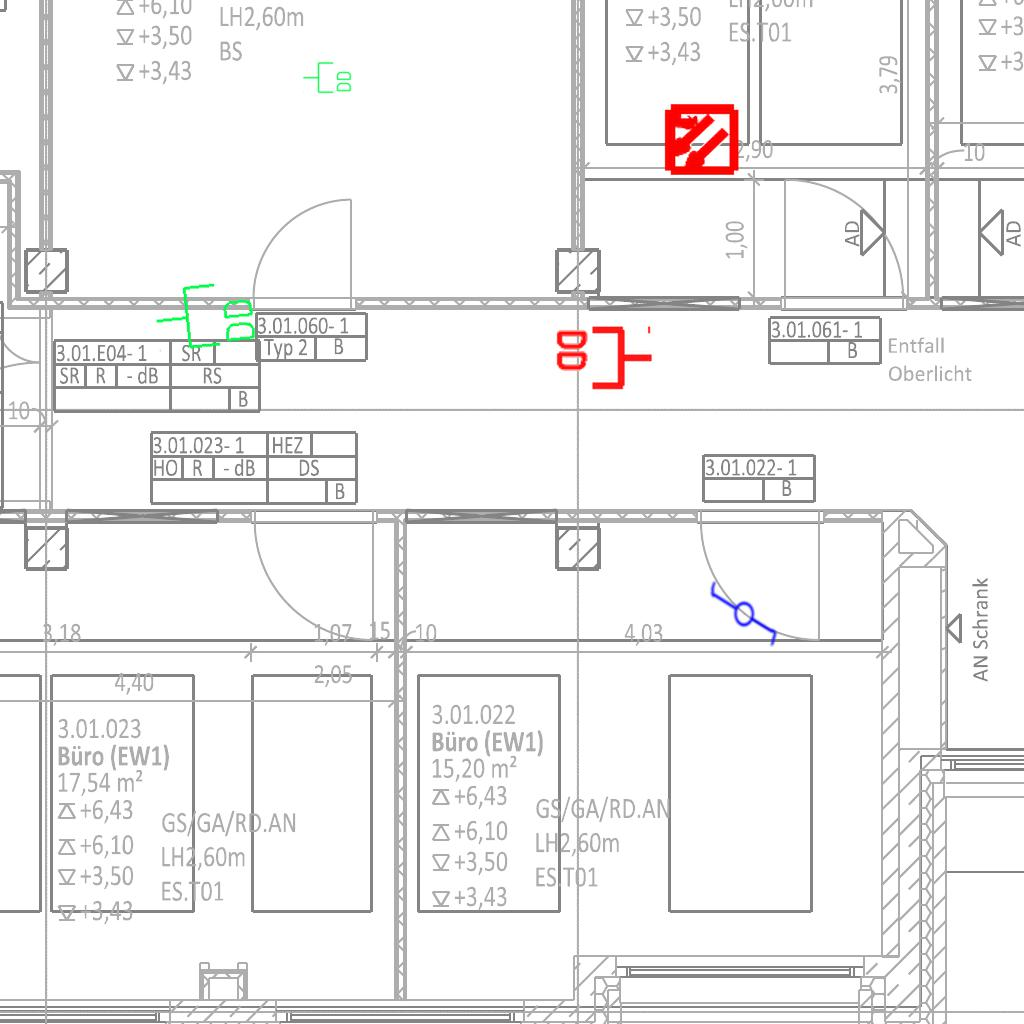Datenanschluss_zweifach: (150, 276, 261, 357), (552, 325, 655, 394), (302, 61, 353, 95)
OT_Multisensormelder_(Kombination_RMO_WMD): (643, 83, 756, 196)
Wechselschalter: (706, 578, 780, 658)
